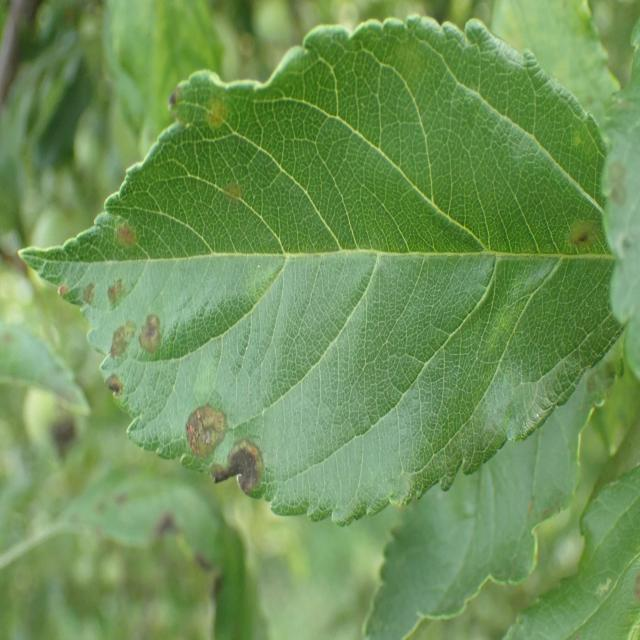scab: (31, 82, 298, 516), (494, 64, 632, 403)
